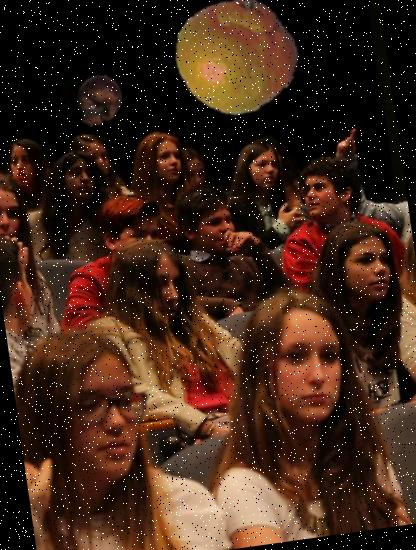Mandarine: (168, 0, 304, 123)
Mangostan: (69, 71, 129, 131)
